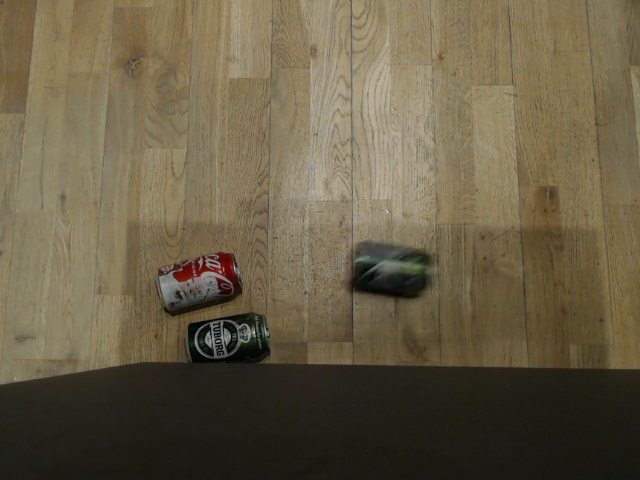beer: (340, 236, 440, 305), (178, 313, 267, 365)
cola: (150, 246, 242, 308)
